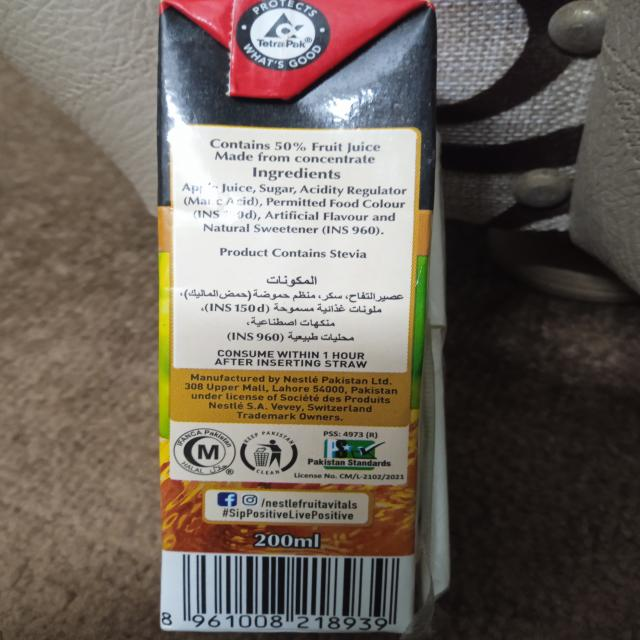Plastic: (138, 0, 484, 640)
